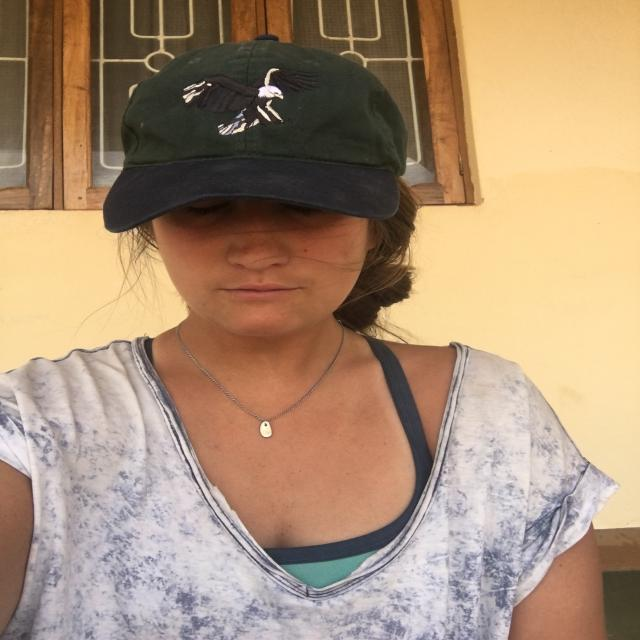3_gorra: (99, 32, 412, 232)
